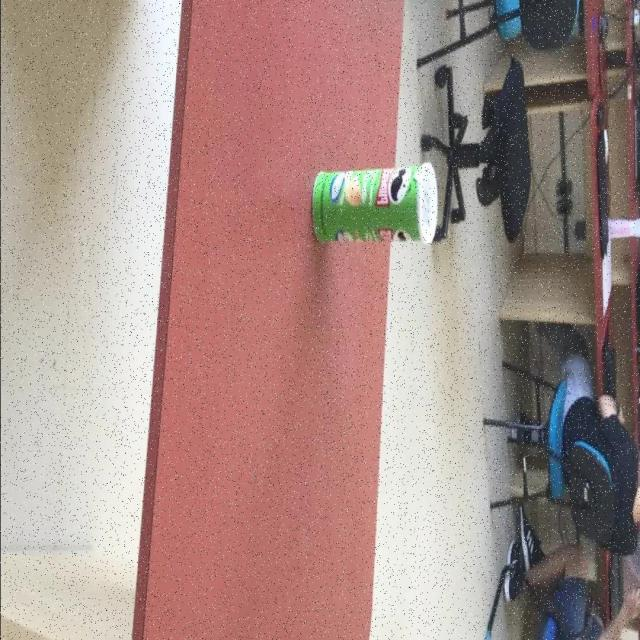Pringles: (312, 163, 439, 247)
